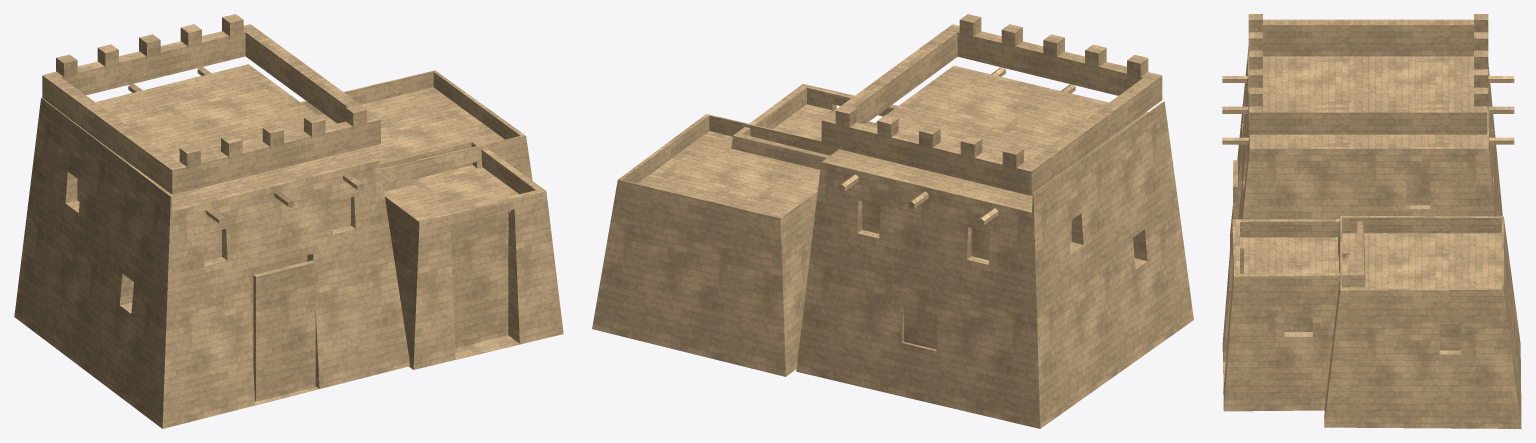
File: house-c.glb
3 views of the same model, side by side, from view 1: azimuth 30°, elevation 25°; view 2: azimuth 150°, elevation 25°; view 3: azimuth 270°, elevation 25° (orthographic). The views are drawn at different scales.
Parts seen in each view (by area): view 1: house-c; view 2: house-c; view 3: house-c.
Boxes of the visible parts, <box> form: house-c: <box>14,14,563,428</box>; house-c: <box>592,14,1193,428</box>; house-c: <box>1222,14,1521,428</box>.
Size of the model in its own units: 6.46 by 3.67 by 4.19.
Materials: 1 (1 with a texture image).
